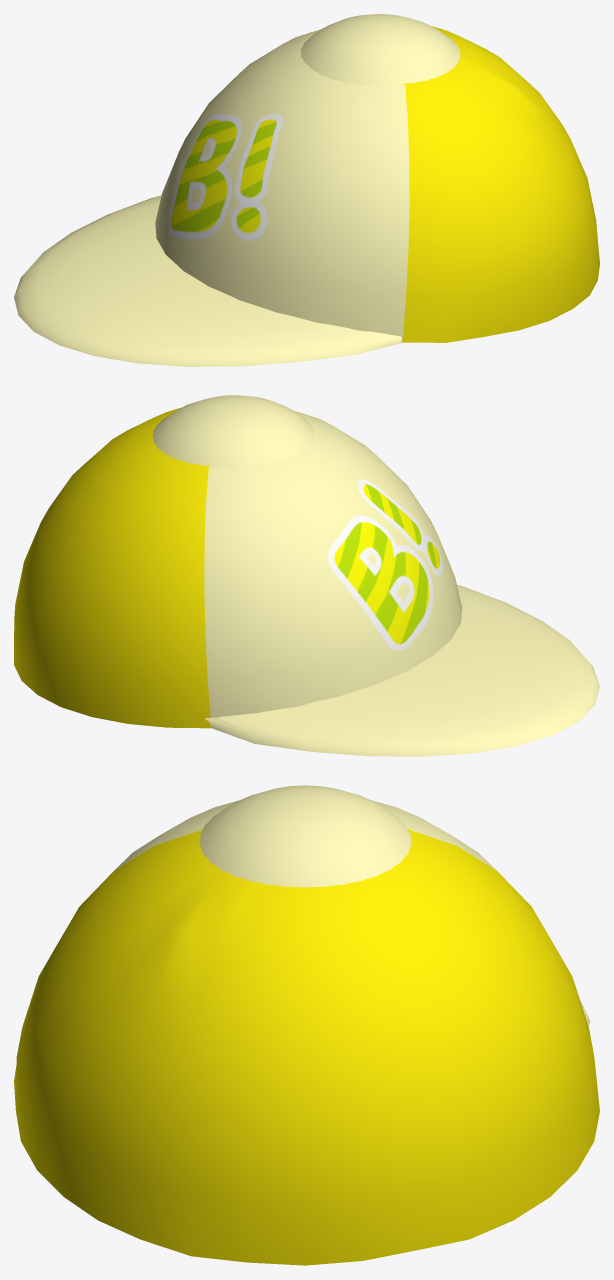
Rendered from O1f1MhGu2OvM.glb.
3 views of the same model, one above another, from view 1: azimuth 30°, elevation 25°; view 2: azimuth 150°, elevation 25°; view 3: azimuth 270°, elevation 25° (orthographic). The views are drawn at different scales.
Parts seen in each view (by area): view 1: Sphere.001; view 2: Sphere.001; view 3: Sphere.001.
Boxes of the visible parts, left/top/right/bottom form: Sphere.001: left=14, top=14, right=599, bottom=366; Sphere.001: left=14, top=395, right=599, bottom=756; Sphere.001: left=14, top=785, right=599, bottom=1265.
Size of the model in its own units: 2.31 by 1.04 by 1.63.
2 materials, 2 textured.
